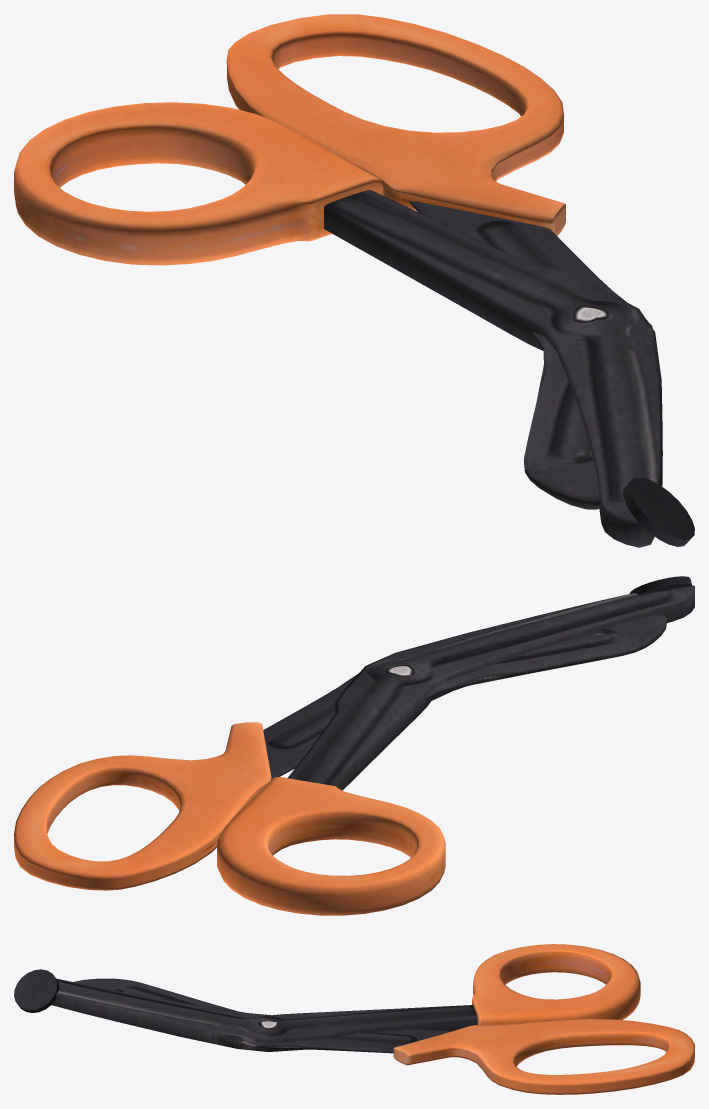
File: tijera.obj
The picture shows the model from 3 angles, top to bottom: view 1: azimuth 30°, elevation 25°; view 2: azimuth 150°, elevation 25°; view 3: azimuth 270°, elevation 25°; orthographic projection. The views are drawn at different scales.
Parts seen in each view (by area): view 1: polySurface6, polySurface3; view 2: polySurface6, polySurface3; view 3: polySurface6, polySurface3.
Boxes of the visible parts, bbox=[...] form: polySurface6: bbox=[14, 102, 694, 547]; polySurface3: bbox=[226, 14, 652, 509]; polySurface6: bbox=[217, 576, 694, 915]; polySurface3: bbox=[14, 613, 666, 890]; polySurface6: bbox=[14, 944, 640, 1051]; polySurface3: bbox=[74, 978, 694, 1094].
Bounding box in the file's own units: 31.3 × 3.36 × 65.33.
